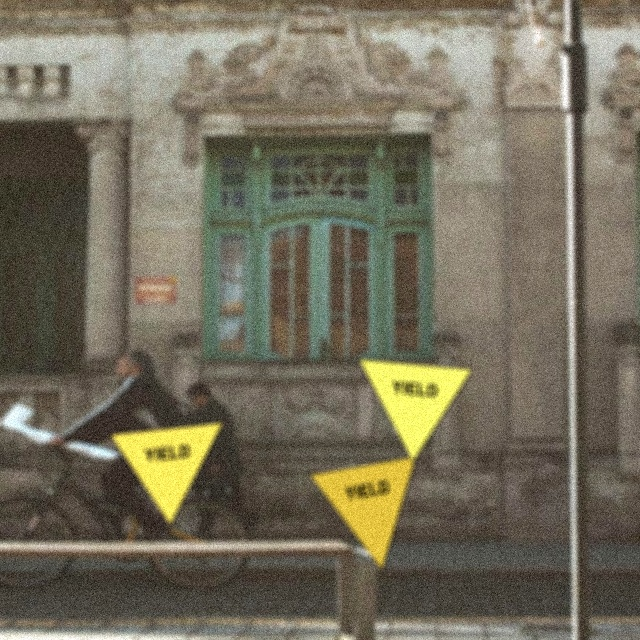YIELD: (309, 456, 417, 571), (109, 422, 224, 526), (358, 359, 473, 463)
